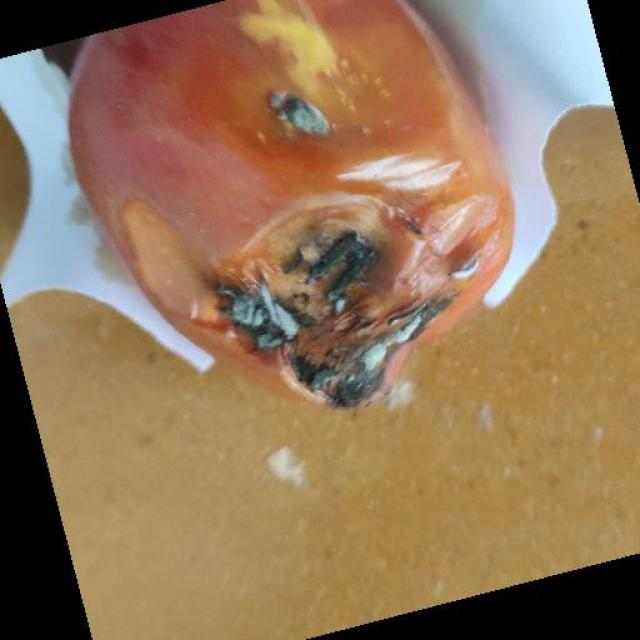Stale_tomato: (62, 36, 504, 394)
